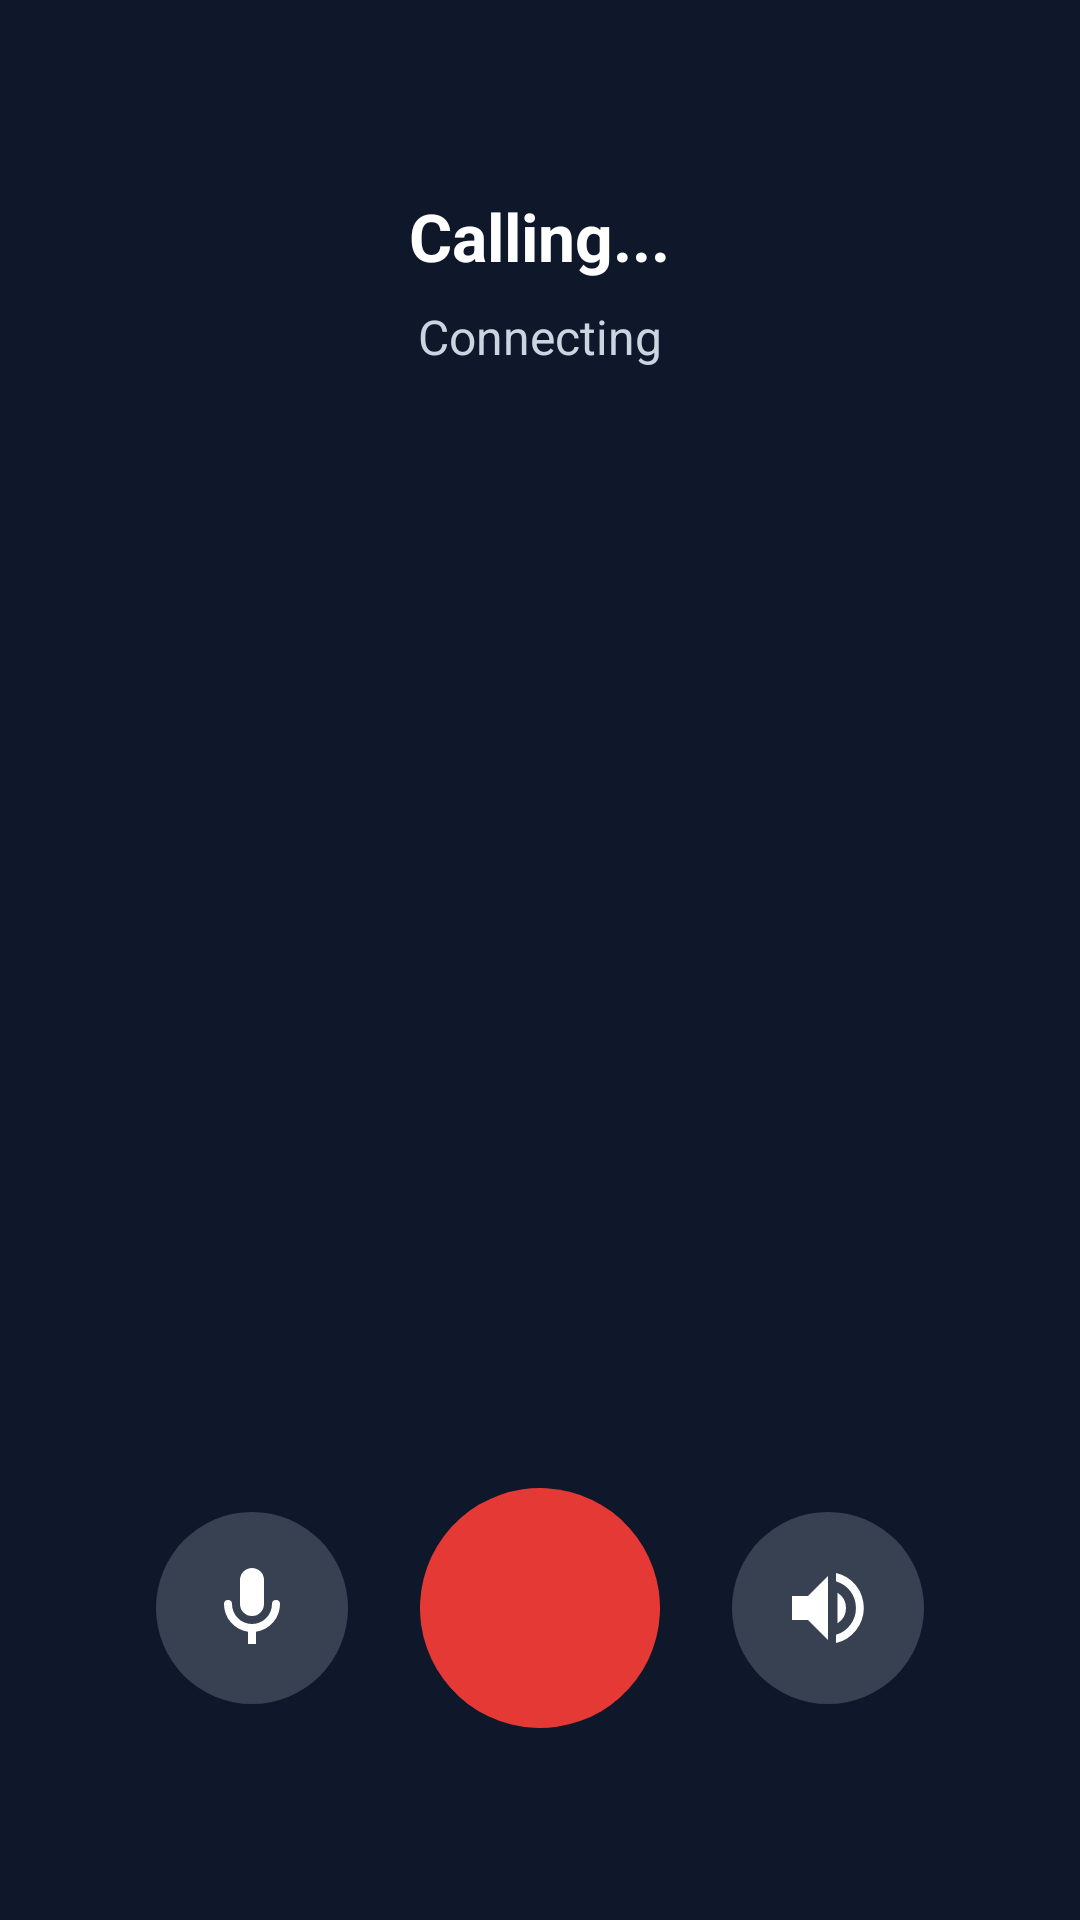

Locate icon controls on the screen. Image size 1080 × 1920, boxes as (left=x1, top=y1, right=x2, bottom=y2).
mic: (left=156, top=1512, right=348, bottom=1704)
speaker: (left=732, top=1512, right=924, bottom=1704)
